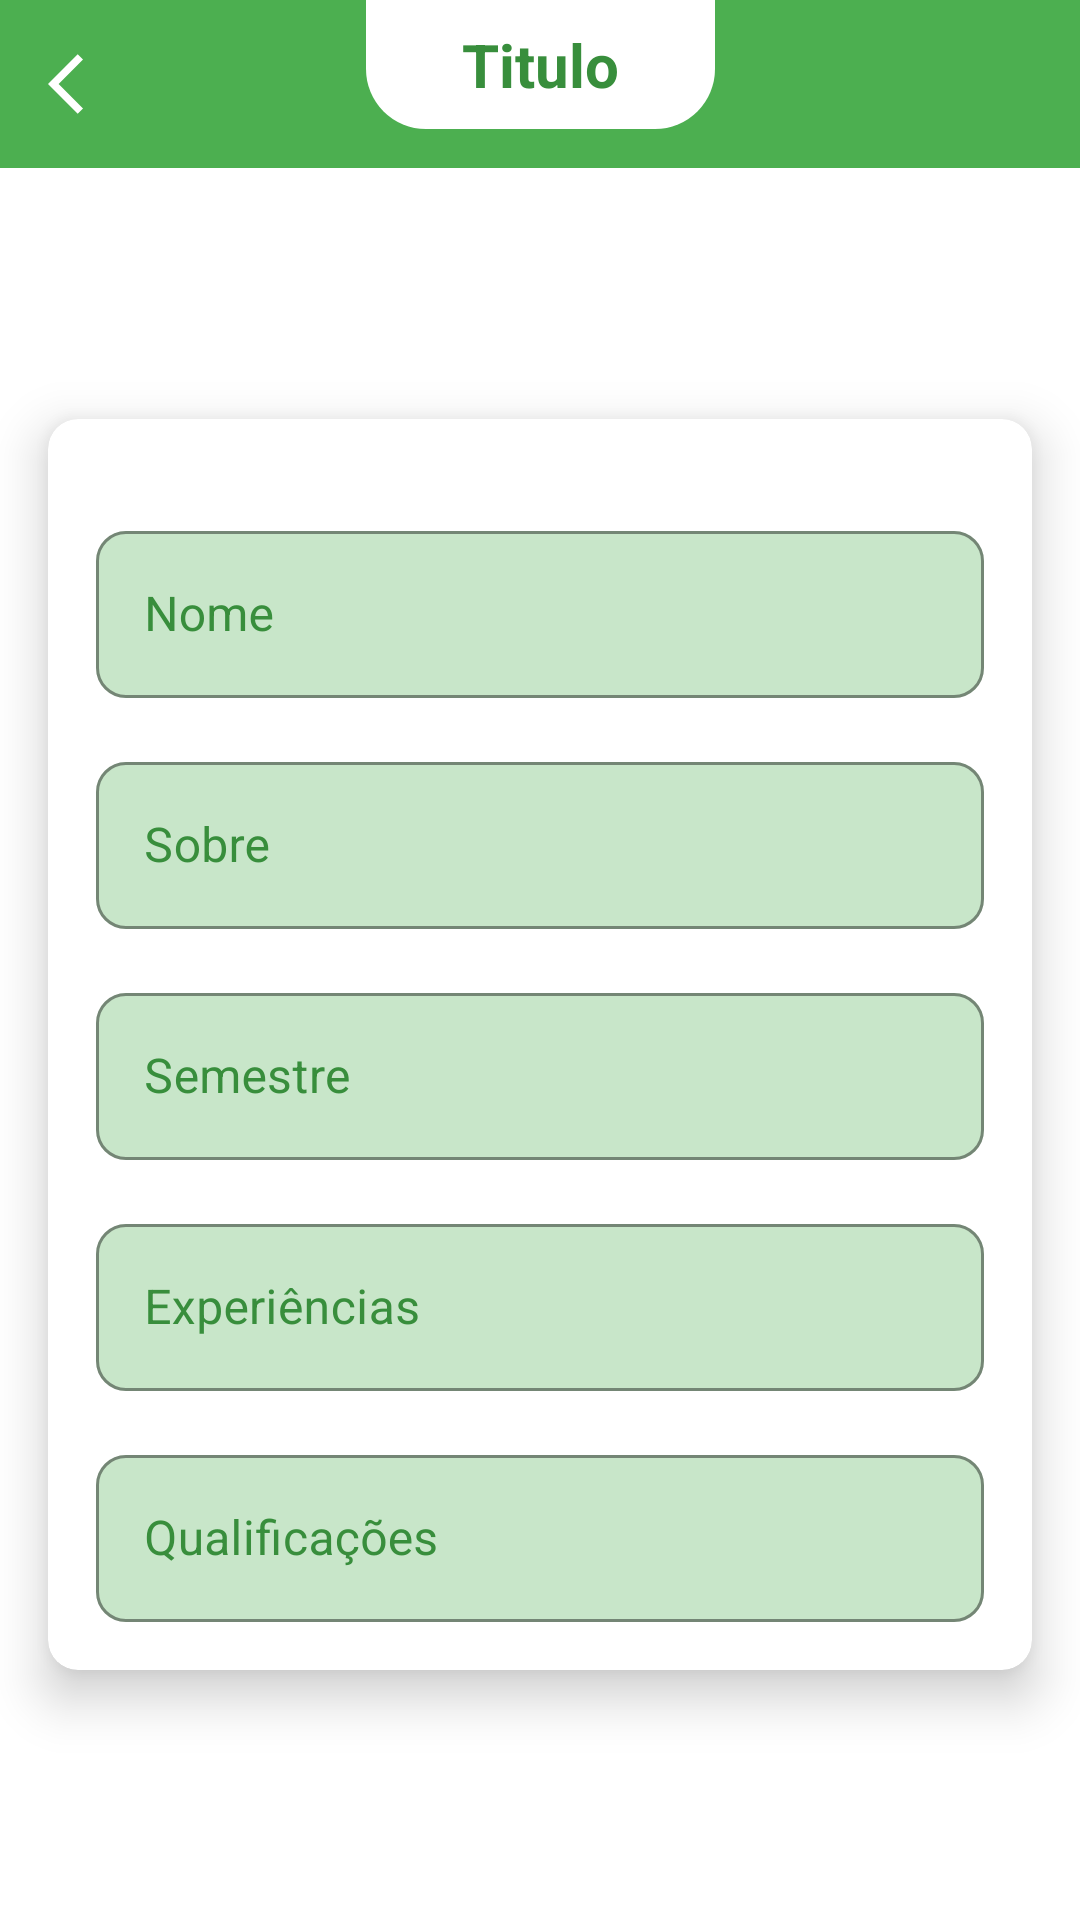

Screen size 1080px x 1920px. Icon name, then its center in pixels as point (x, y):
voltar: point (65, 84)
